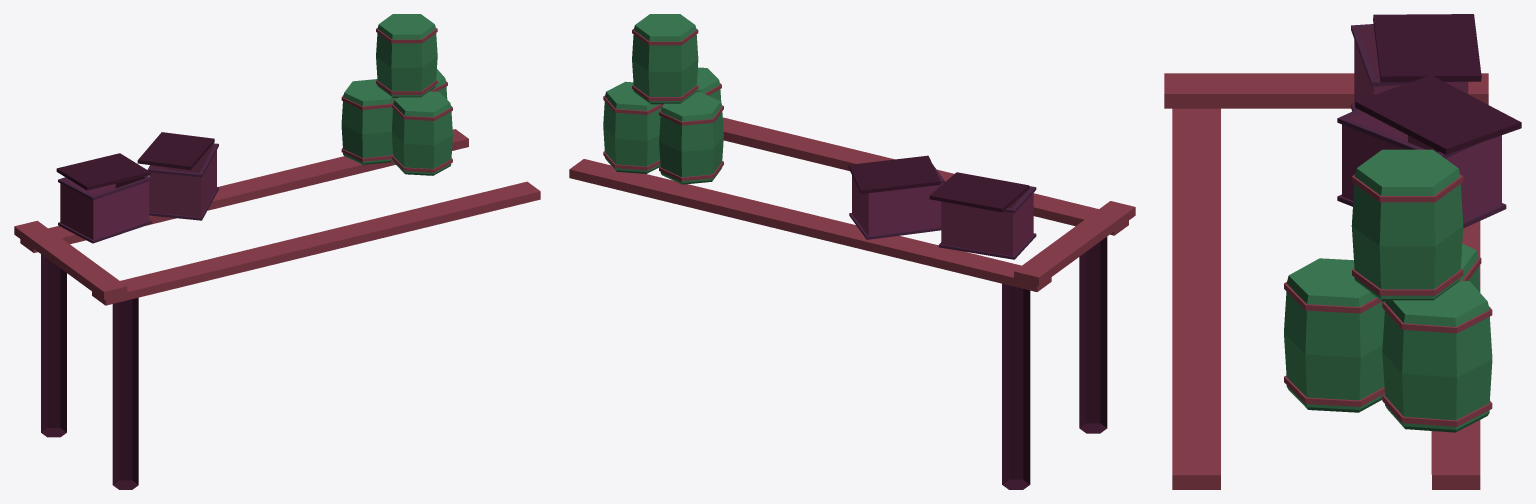
The model's file is dock.glb.
3 renders of one model, left to right at view 1: azimuth 30°, elevation 25°; view 2: azimuth 150°, elevation 25°; view 3: azimuth 270°, elevation 25°, orthographic. The views are drawn at different scales.
Parts seen in each view (by area): view 1: UnderPlanks, Poles, Barrel.003, Crate, Barrel.002, Barrel.001, Crate.001, Deck, Cover, Cover.001; view 2: UnderPlanks, Poles, Barrel.003, Barrel.001, Crate, Barrel, Crate.001, Deck, Cover.001, Cover, Barrel.002; view 3: UnderPlanks, Barrel.003, Barrel, Barrel.002, Deck, Cover.001, Cover, Crate.001, Crate, Barrel.001.
Boxes of the visible parts, box(x1,y1,x2,y2) form: UnderPlanks: box(20, 129, 540, 305); Poles: box(41, 254, 138, 489); Barrel.003: box(376, 14, 437, 97); Crate: box(58, 176, 151, 243); Barrel.002: box(391, 91, 452, 175); Barrel.001: box(341, 79, 397, 164); Crate.001: box(147, 143, 218, 220); Deck: box(14, 220, 127, 299); Cover: box(56, 153, 150, 190); Cover.001: box(137, 132, 214, 169); UnderPlanks: box(569, 117, 1128, 291); Poles: box(1002, 236, 1107, 489); Barrel.003: box(632, 14, 698, 104); Barrel.001: box(659, 92, 723, 184); Crate: box(938, 186, 1036, 259); Barrel: box(603, 81, 663, 173); Crate.001: box(849, 165, 944, 239); Deck: box(1014, 201, 1135, 286); Cover.001: box(848, 155, 940, 193); Cover: box(929, 172, 1029, 212); Barrel.002: box(696, 67, 721, 101); UnderPlanks: box(1172, 108, 1480, 489); Barrel.003: box(1351, 149, 1463, 301); Barrel: box(1382, 280, 1492, 432); Barrel.002: box(1284, 258, 1384, 412); Deck: box(1164, 73, 1488, 108); Cover.001: box(1355, 75, 1521, 154); Cover: box(1373, 14, 1481, 82); Crate.001: box(1337, 109, 1506, 228); Crate: box(1351, 24, 1468, 111); Barrel.001: box(1460, 243, 1481, 292).
Size of the model in its own units: 11.3 by 8.24 by 4.41.
Materials: 1 (1 with a texture image).
